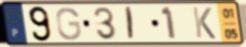1: (159, 6, 180, 41)
3: (93, 6, 117, 41)
9: (27, 5, 54, 43)
G: (55, 6, 83, 41)
I: (125, 5, 135, 42)
K: (190, 6, 218, 41)
